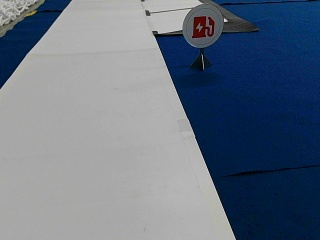battery: (182, 2, 223, 47)
